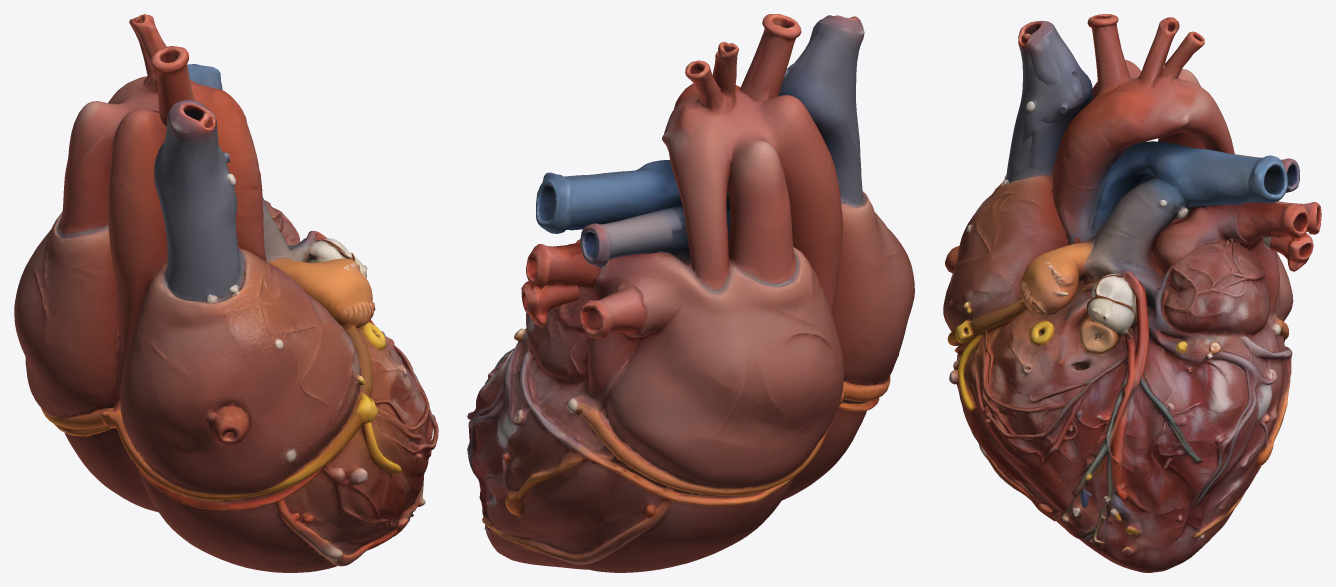
File: heart.glb
3 views of the same model, side by side, from view 1: azimuth 30°, elevation 25°; view 2: azimuth 150°, elevation 25°; view 3: azimuth 270°, elevation 25° (orthographic). The views are drawn at different scales.
Parts seen in each view (by area): view 1: tripo_node_ce72a457-2d19-44cf-a281-91aa3688d357; view 2: tripo_node_ce72a457-2d19-44cf-a281-91aa3688d357; view 3: tripo_node_ce72a457-2d19-44cf-a281-91aa3688d357.
Boxes of the visible parts, bbox=[...] form: tripo_node_ce72a457-2d19-44cf-a281-91aa3688d357: bbox=[14, 14, 438, 572]; tripo_node_ce72a457-2d19-44cf-a281-91aa3688d357: bbox=[467, 14, 914, 572]; tripo_node_ce72a457-2d19-44cf-a281-91aa3688d357: bbox=[943, 14, 1321, 572].
Bounding box in the file's own units: 0.6532 × 1 × 0.7357.
Materials: 1 (1 with a texture image).
